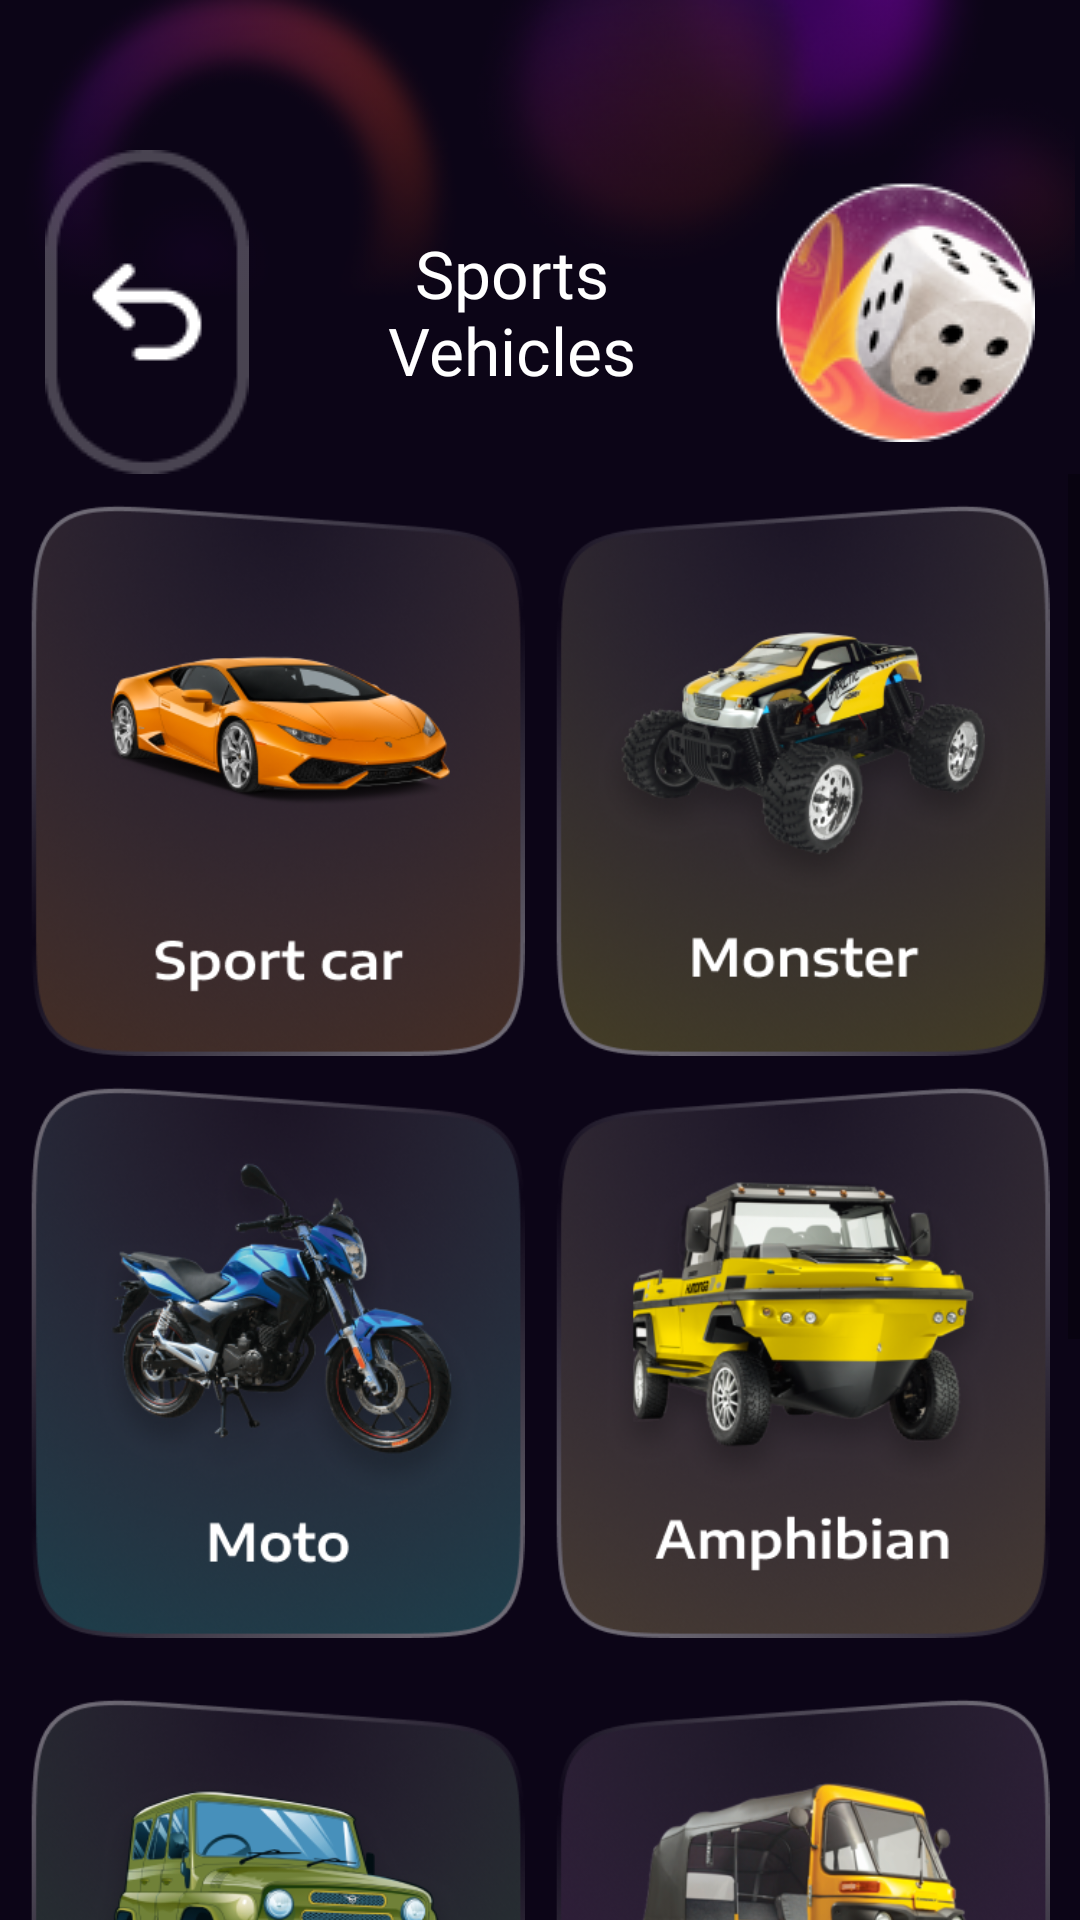

Where icons sit on this 1080px×1920px app screen, as (x1, y1, x2, y2):
back: (45, 150, 249, 474)
